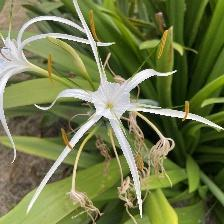spider lily: (30, 1, 224, 217)
